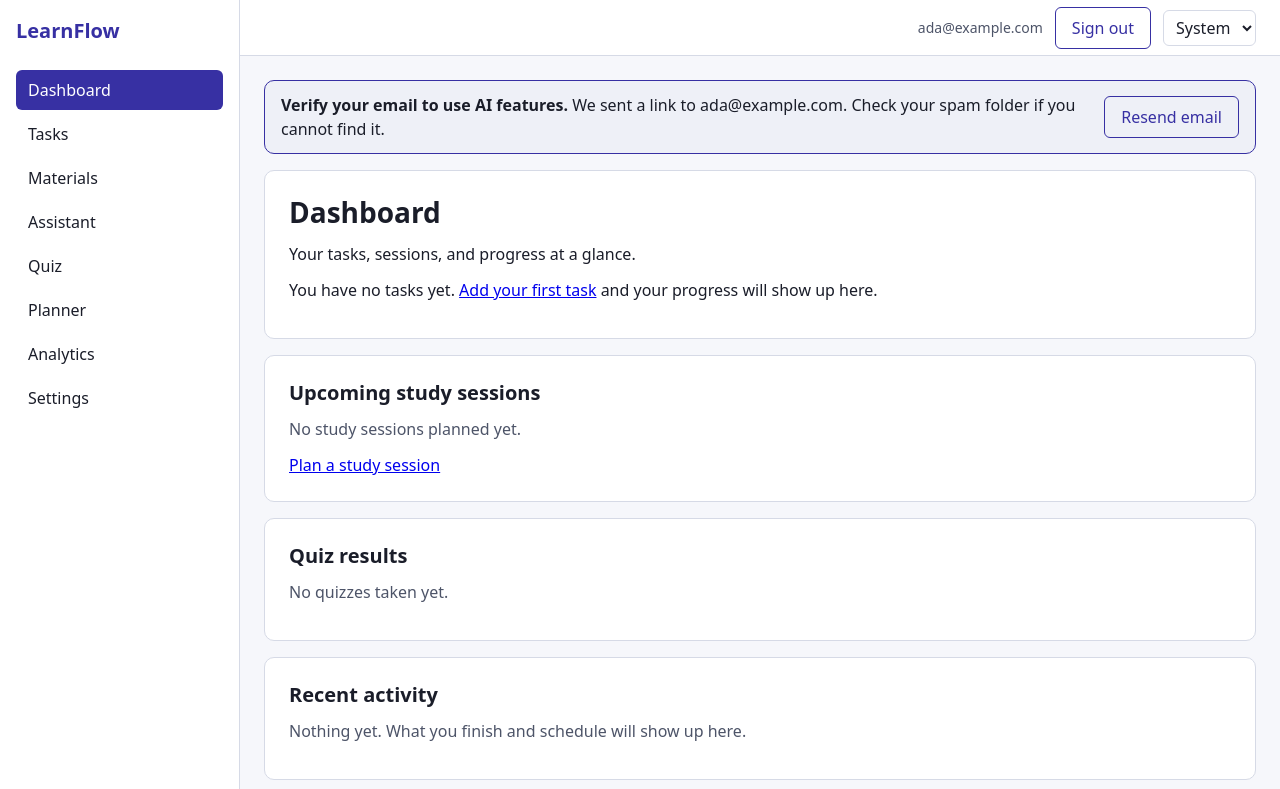
Test: verification banner › disables the button while sending, so repeated clicks send one email
This screenshot has width=1280, height=789.
Click the button "Resend email". click: (1172, 117)
box: x1=1104 y1=96 x2=1239 y2=138
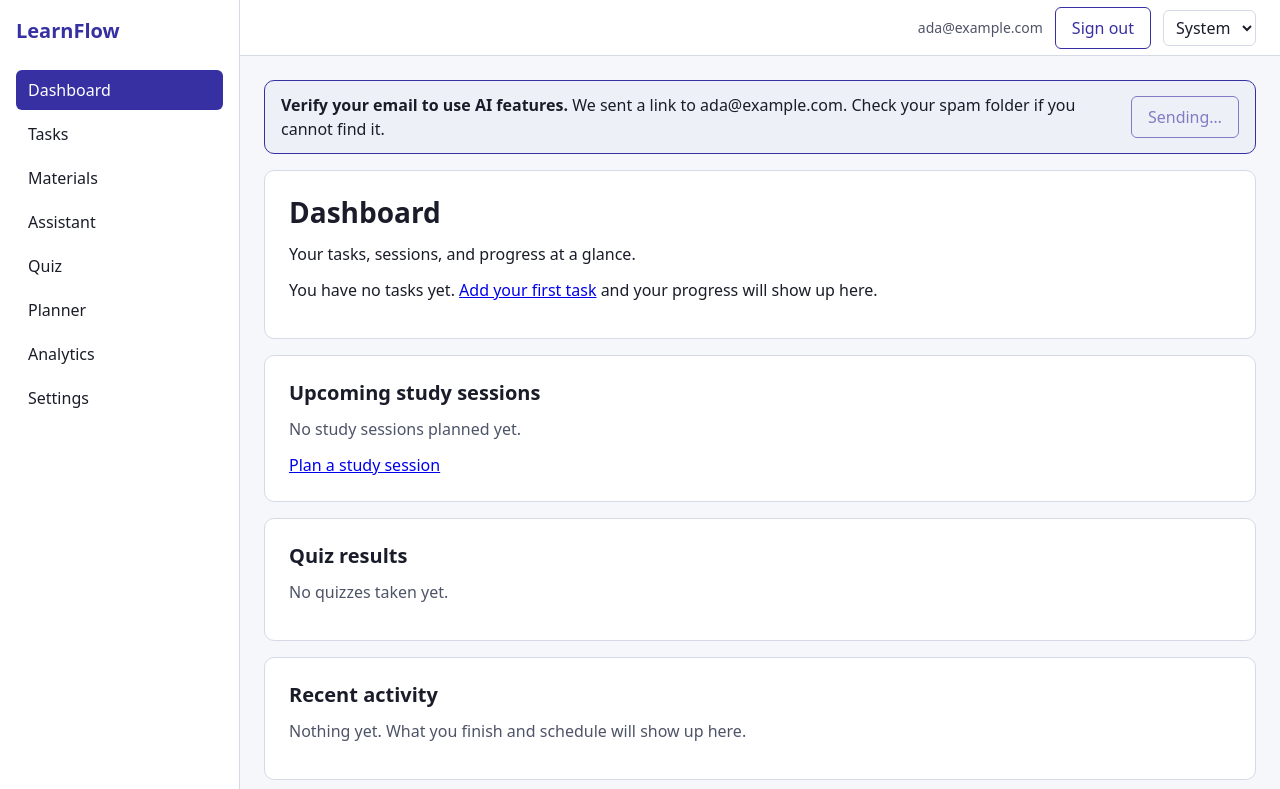
Now the button "Sending…" is disabled
Click the button "Sending…". click: (1185, 117)
box: x1=1131 y1=96 x2=1239 y2=138
(page scrolled)
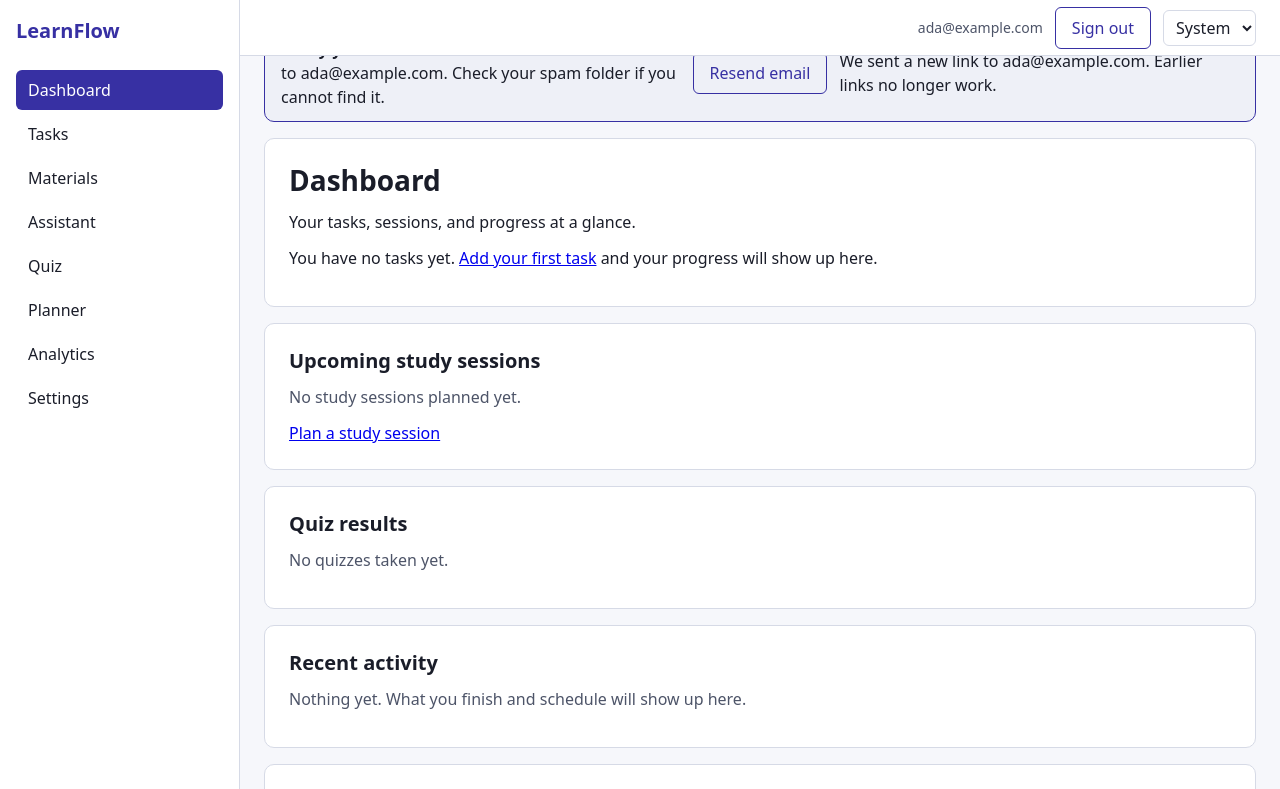
Now the text "We sent a new link to ada@example.com. Earlier links no longer work." is shown, box x1=839 y1=49 x2=1239 y2=97
